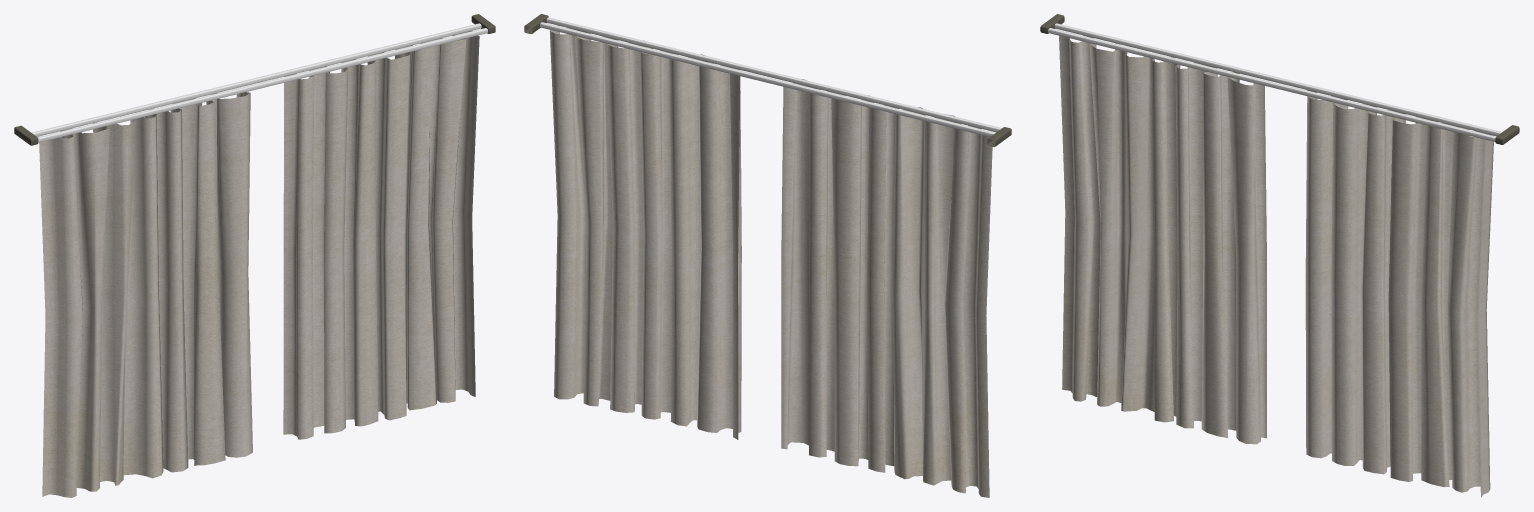
Rendered from curtain.fbx.
The picture shows the model from 3 angles, left to right: view 1: azimuth 30°, elevation 25°; view 2: azimuth 150°, elevation 25°; view 3: azimuth 330°, elevation 25°; orthographic projection.
Parts seen in each view (by area): view 1: _ka_ten, _ka_ten1, _pCube228, _pCube227; view 2: _ka_ten, _ka_ten1, _pCube228, _pCube227; view 3: _ka_ten, _ka_ten1, _pCube228, _pCube227.
Part boxes in pixels (x1,y1,x2,y2): _ka_ten: (39, 92, 252, 497); _ka_ten1: (283, 31, 479, 439); _pCube228: (38, 28, 487, 142); _pCube227: (31, 23, 481, 136); _ka_ten: (781, 79, 992, 497); _ka_ten1: (549, 25, 741, 439); _pCube228: (546, 17, 1001, 132); _pCube227: (540, 22, 995, 136); _ka_ten: (1059, 35, 1266, 444); _ka_ten1: (1305, 90, 1493, 497); _pCube228: (1048, 28, 1495, 141); _pCube227: (1054, 23, 1502, 136).
Size of the model in its own units: 171 by 128 by 13.25.
